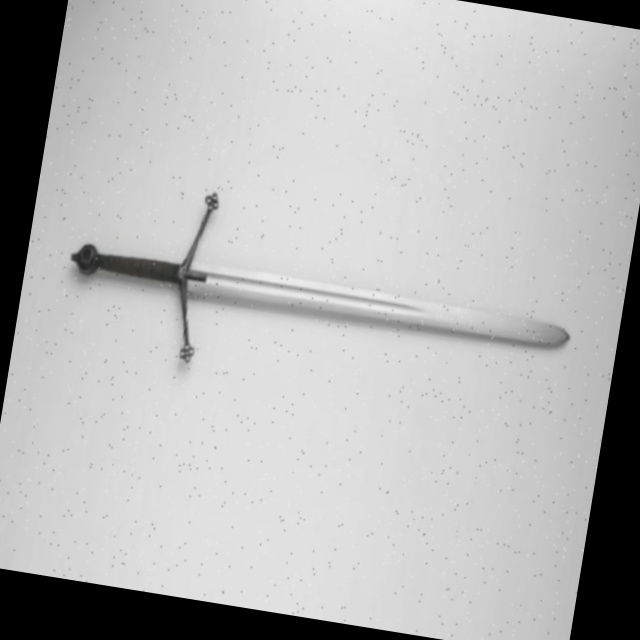Sharp-Object: (61, 229, 573, 381)
